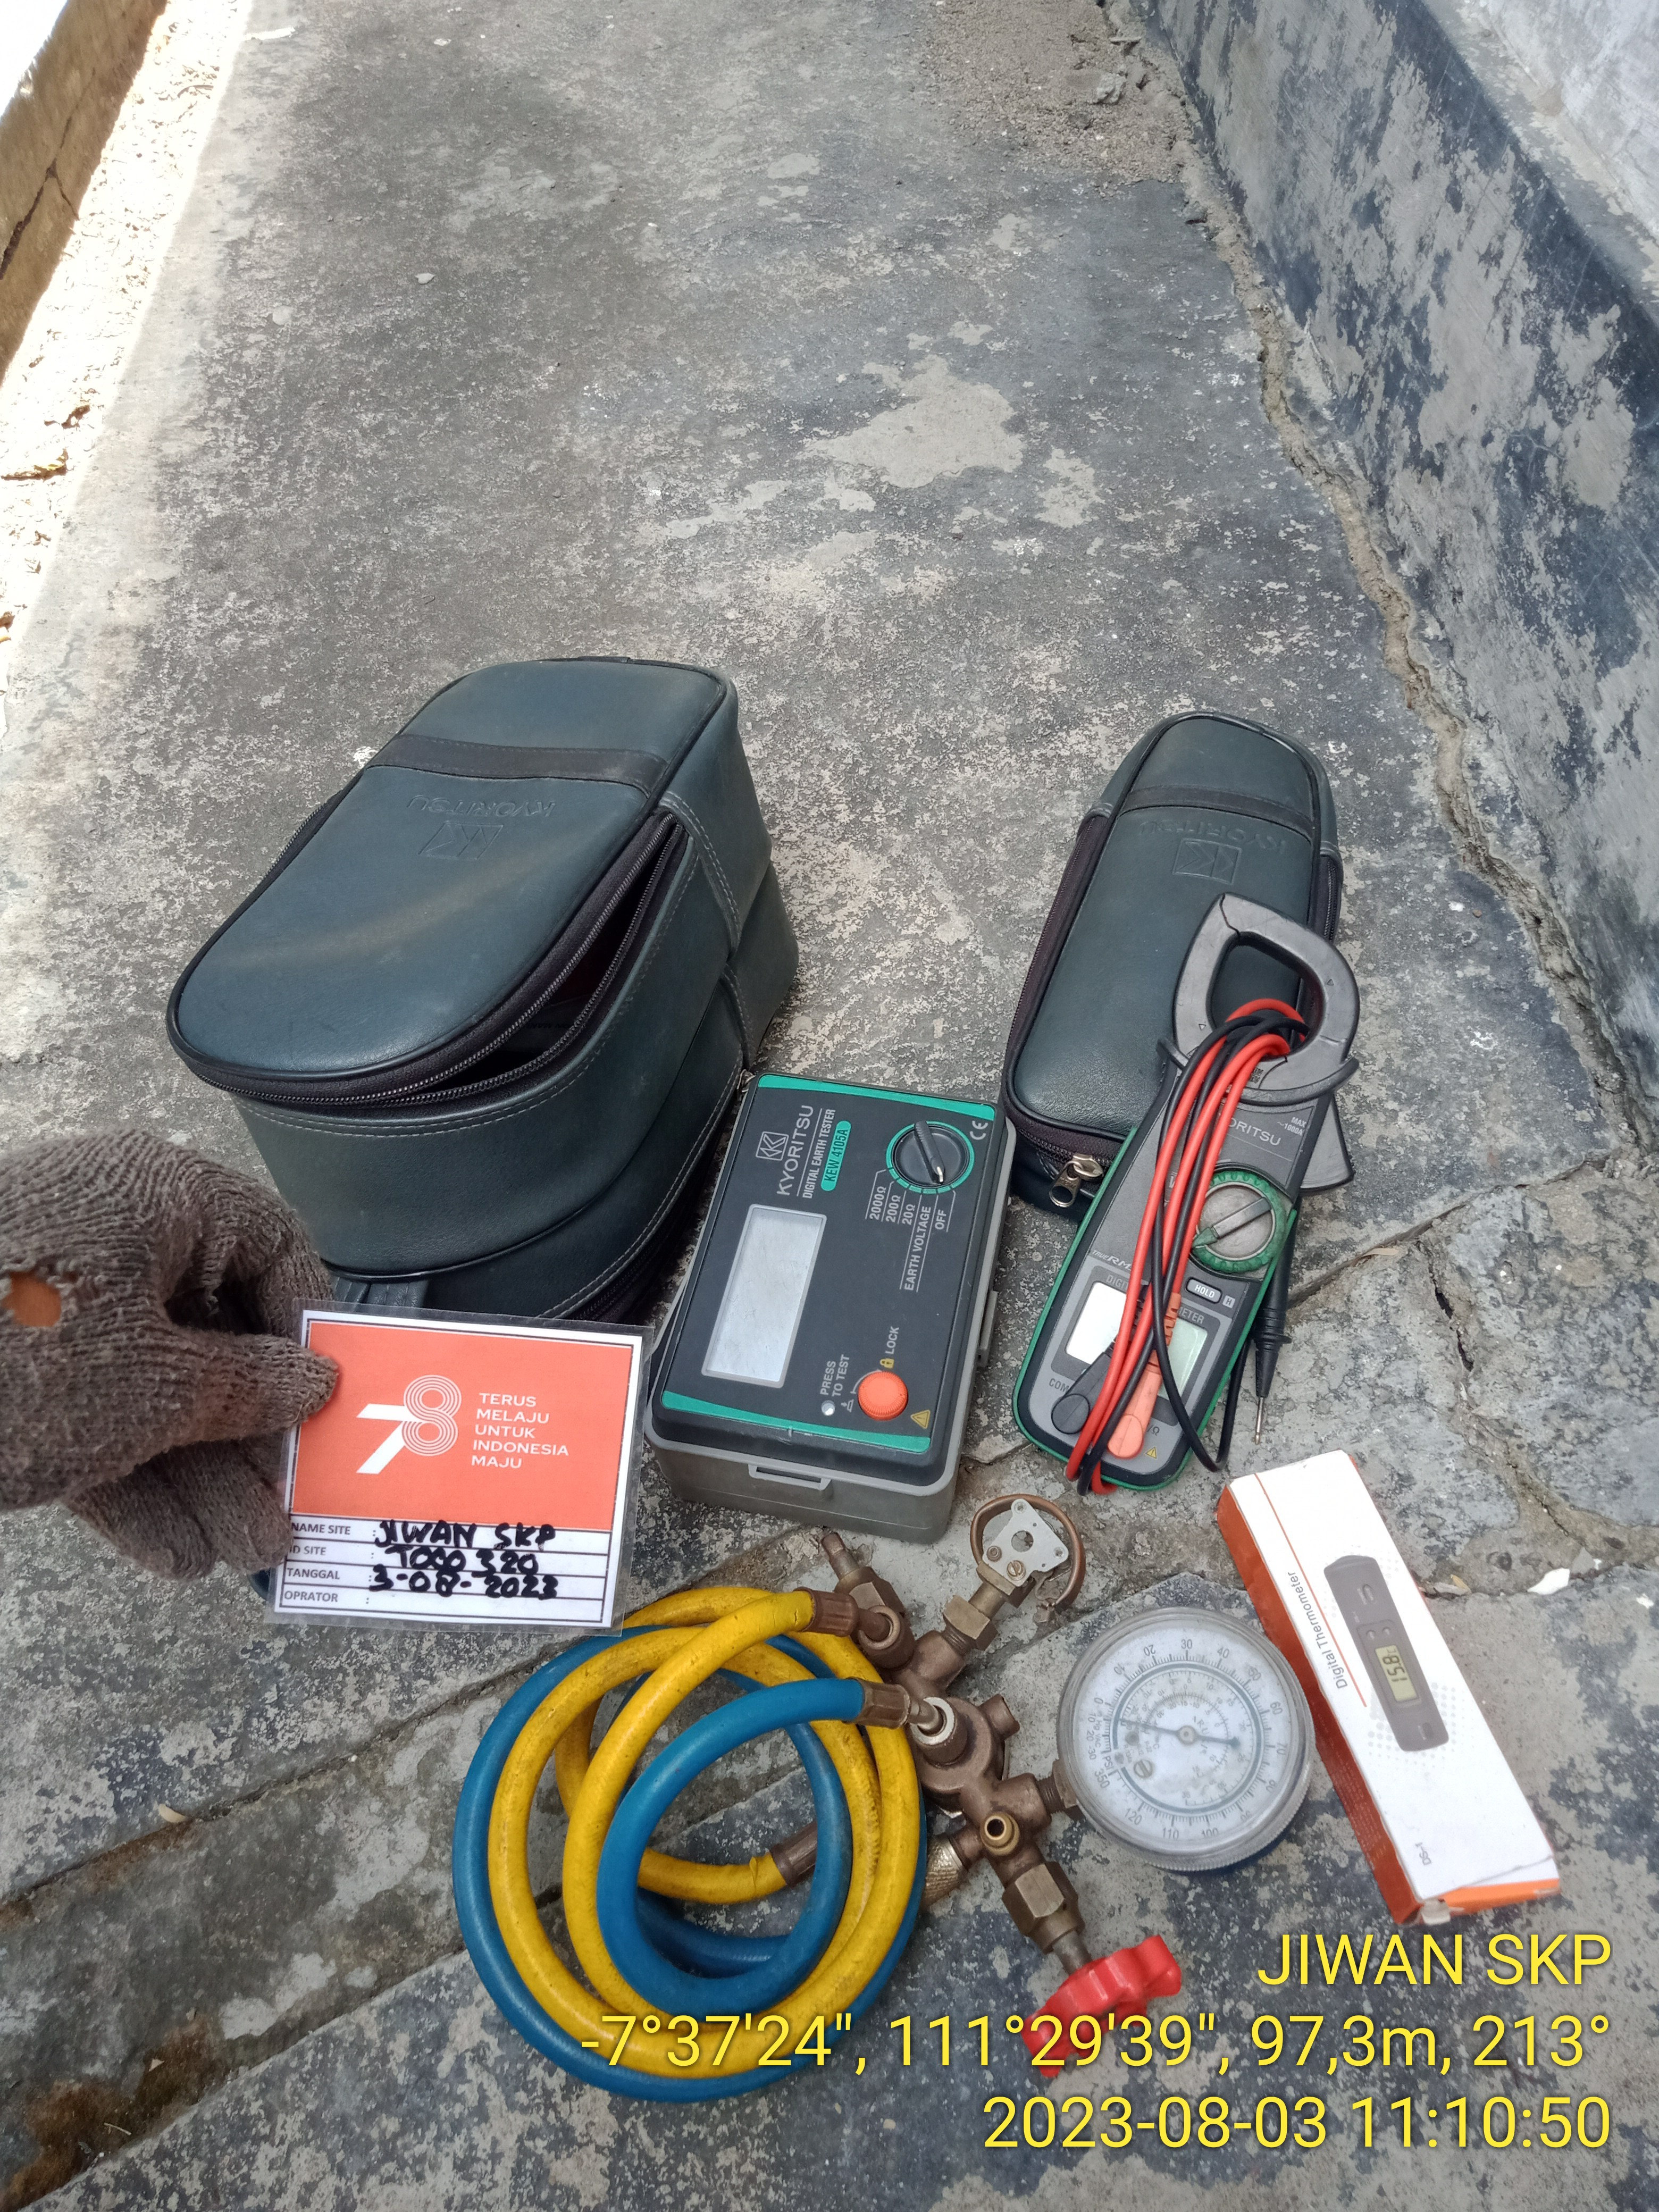EARTH_GROUNDING_TESTER: (647, 1071, 1019, 1541)
TANG_AMPERE: (1014, 894, 1352, 1494)
